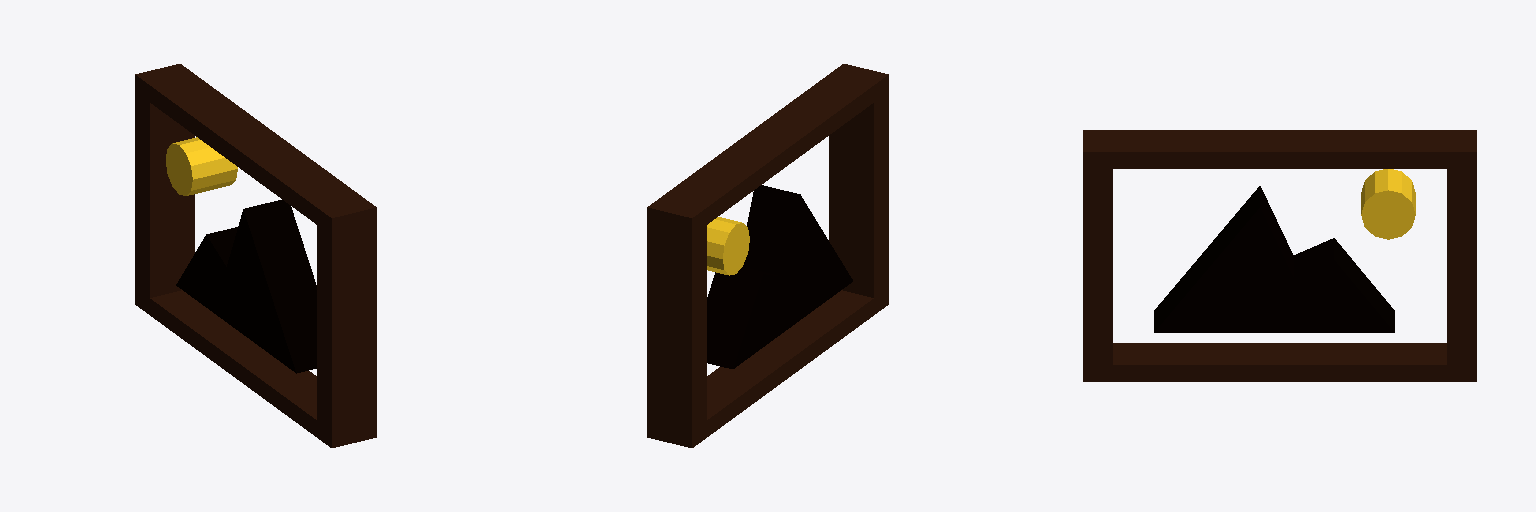
File: icon_painting.obj
3 renders of one model, left to right at view 1: azimuth 30°, elevation 25°; view 2: azimuth 150°, elevation 25°; view 3: azimuth 270°, elevation 25°, orthographic.
Parts seen in each view (by area): view 1: Painting_Cube.002; view 2: Painting_Cube.002; view 3: Painting_Cube.002.
Boxes of the visible parts, <box> form: Painting_Cube.002: <box>135,64,376,447</box>; Painting_Cube.002: <box>647,64,888,447</box>; Painting_Cube.002: <box>1083,130,1476,381</box>.
Bounding box in the file's own units: 0.617 × 3.01 × 4.65.